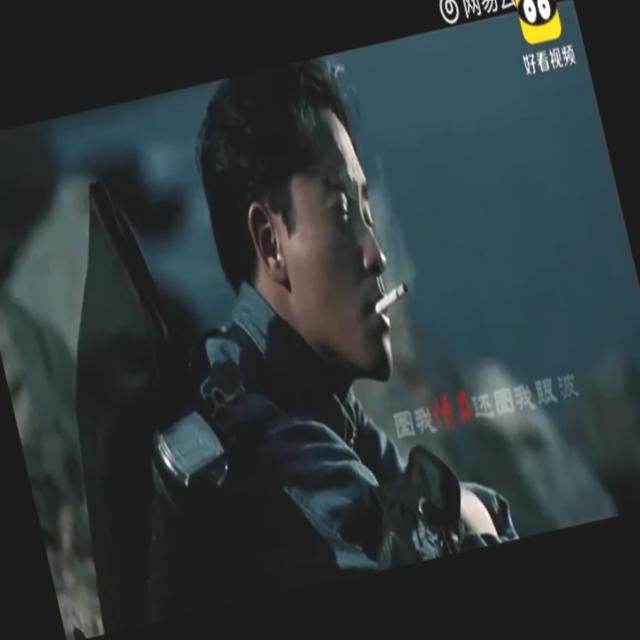cigarette: (374, 284, 416, 318)
